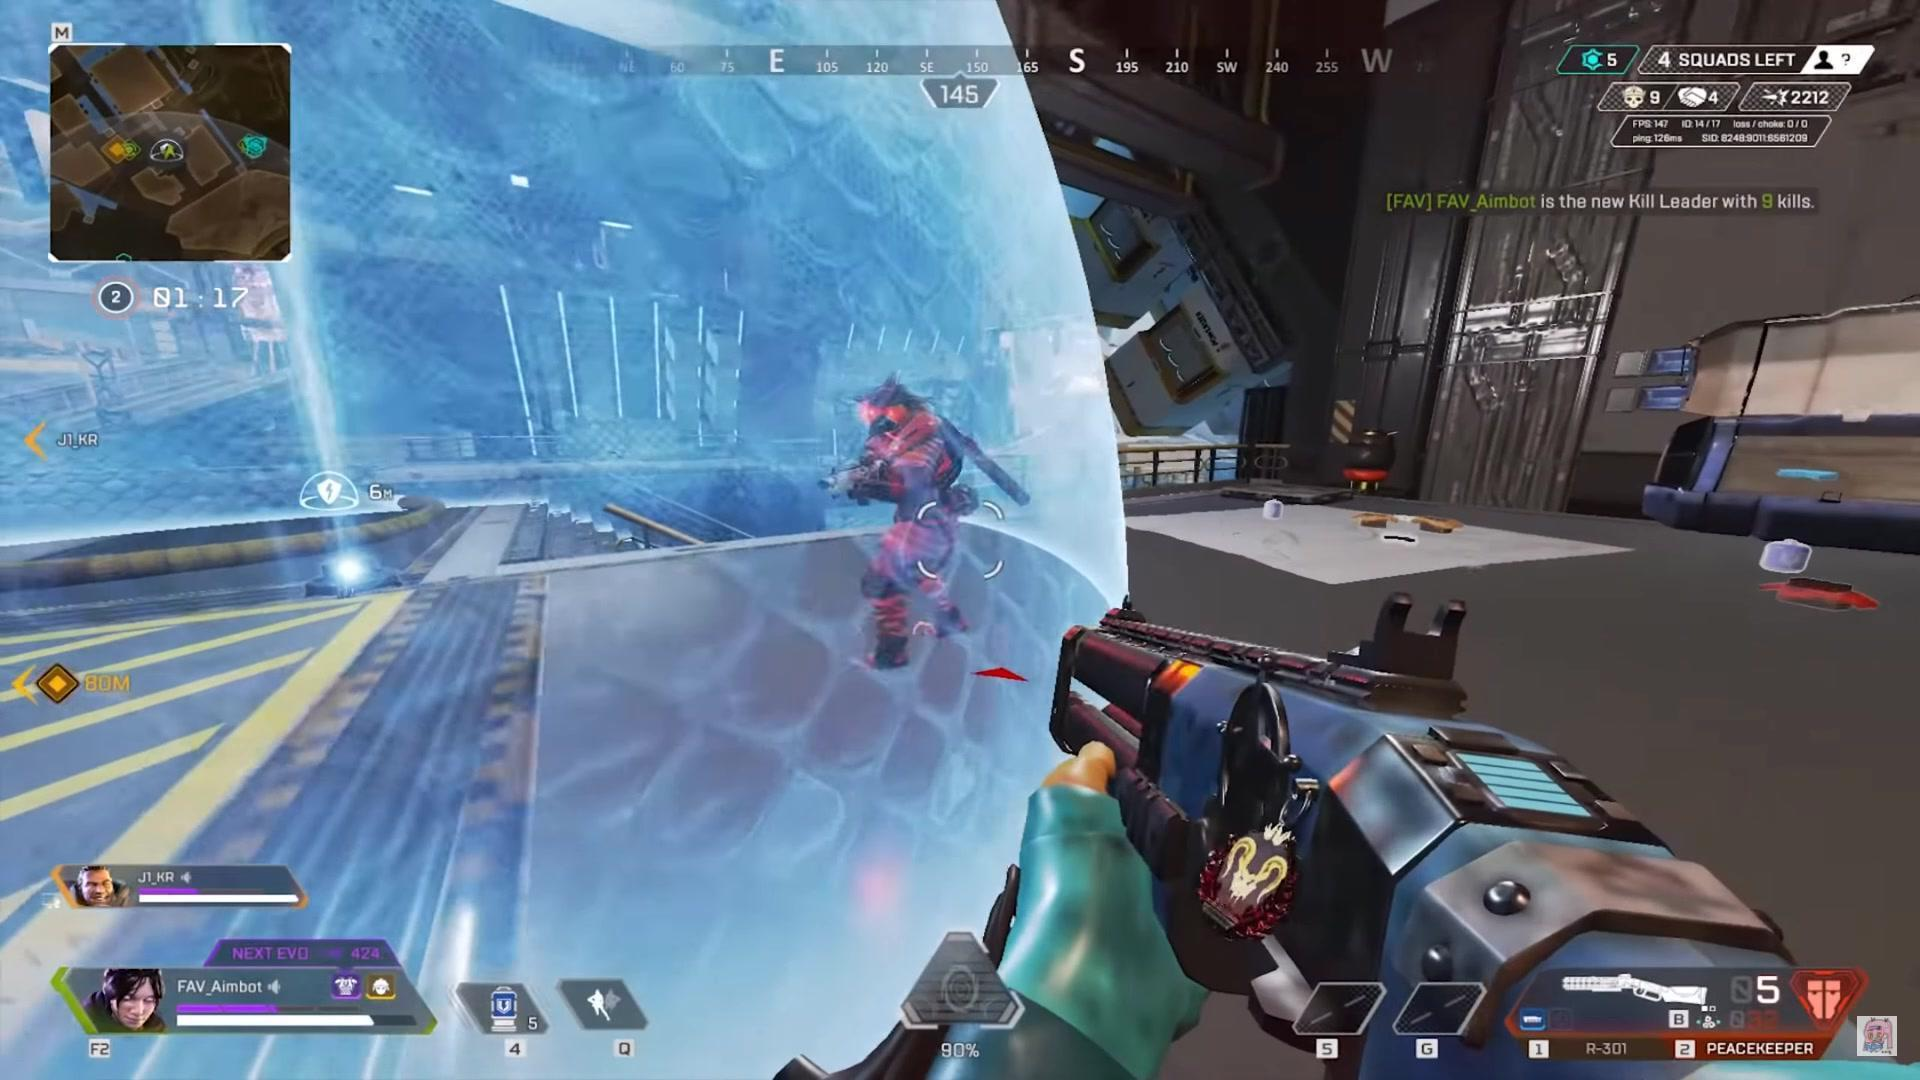avatar: (855, 370, 981, 672)
